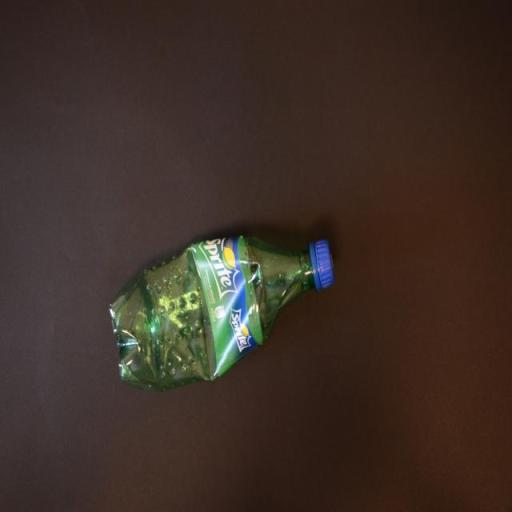plastic: (108, 237, 335, 396)
